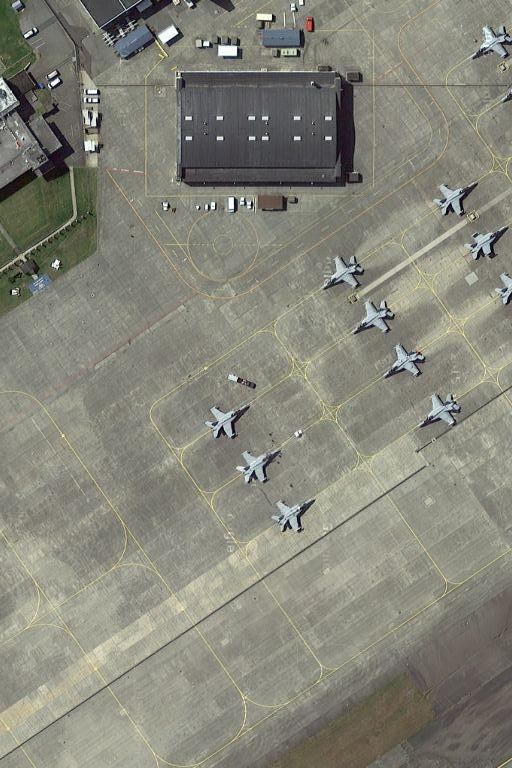F/A-18: (376, 340, 428, 385), (411, 391, 464, 435), (198, 400, 254, 441), (232, 444, 285, 487), (347, 295, 397, 339), (267, 495, 317, 539), (428, 179, 480, 220), (460, 223, 509, 265), (318, 252, 366, 293), (468, 20, 510, 65)
